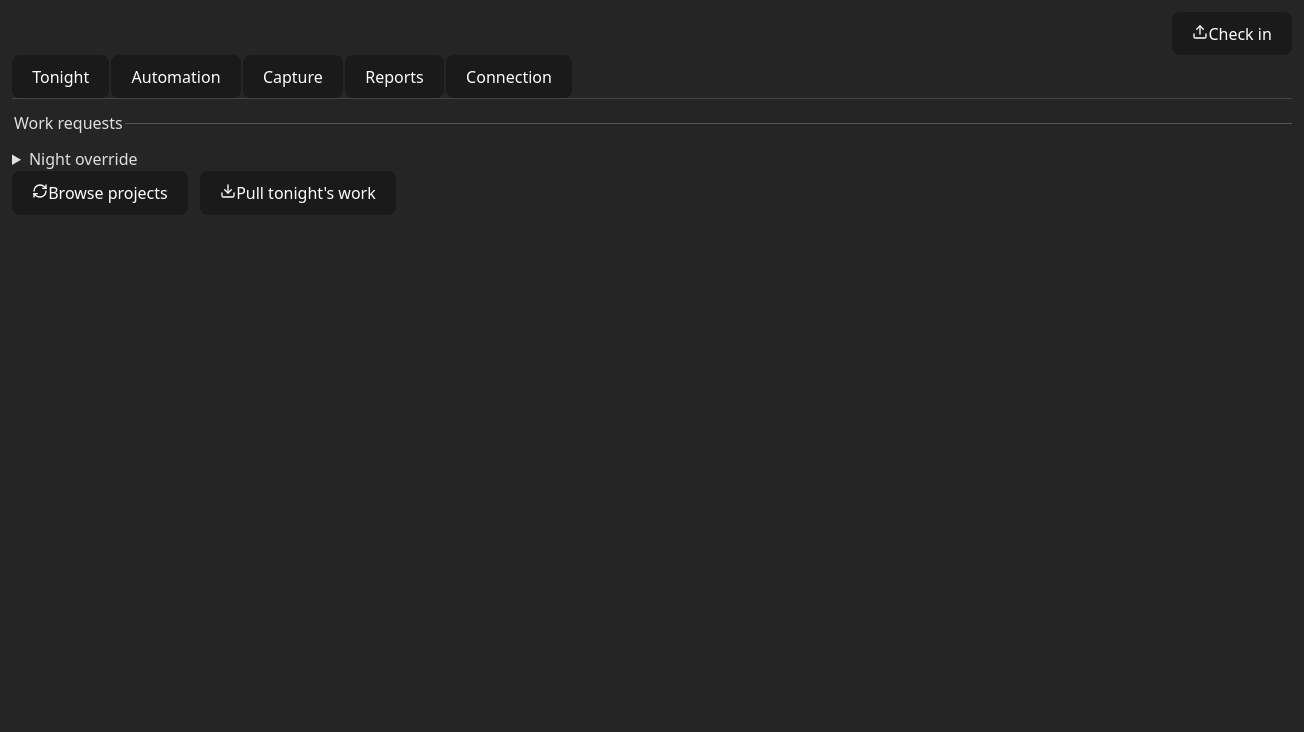
Collaboration work transfer › pulls tonight without manual context and freezes the resolved night through review and apply
Step 1. Click the button "Pull tonight's work" → (298,193), box [200,171,396,215]
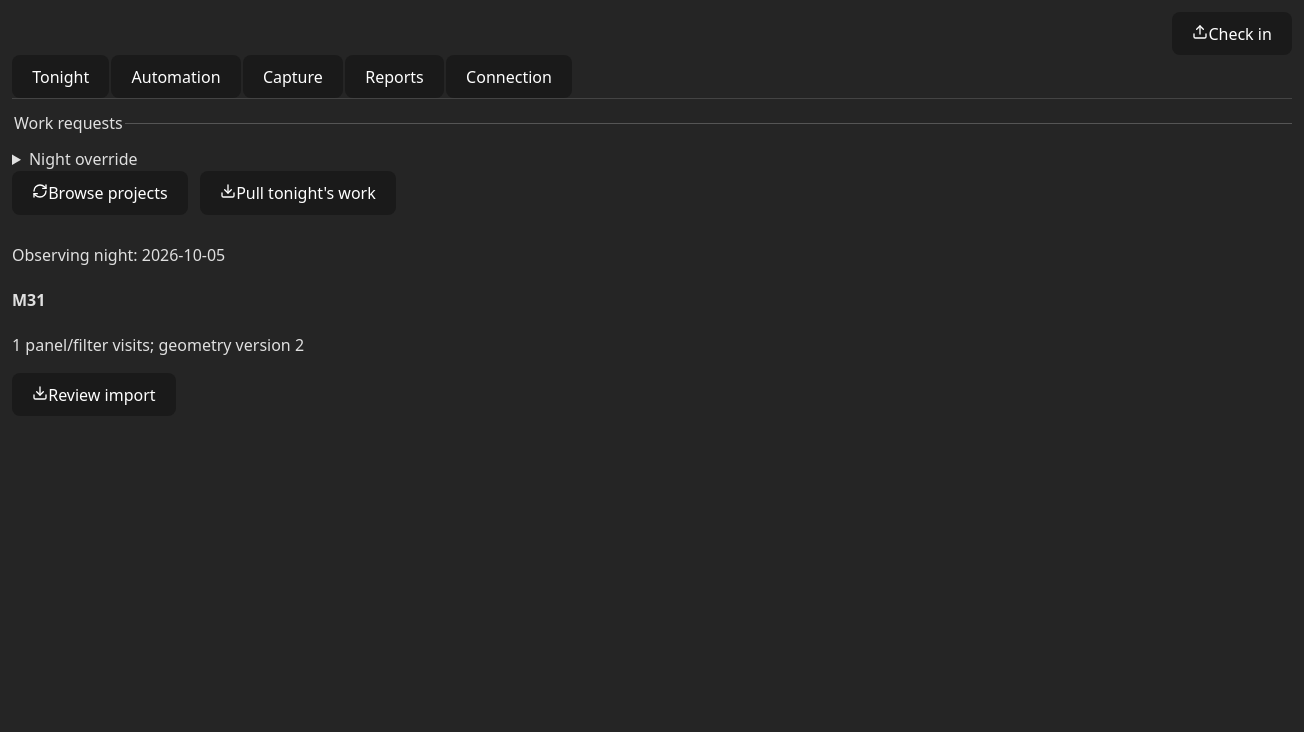
Check: the button "Import draft" is not shown
Step 2. Click the button "Review import" → (94,395), box [12,373,176,416]
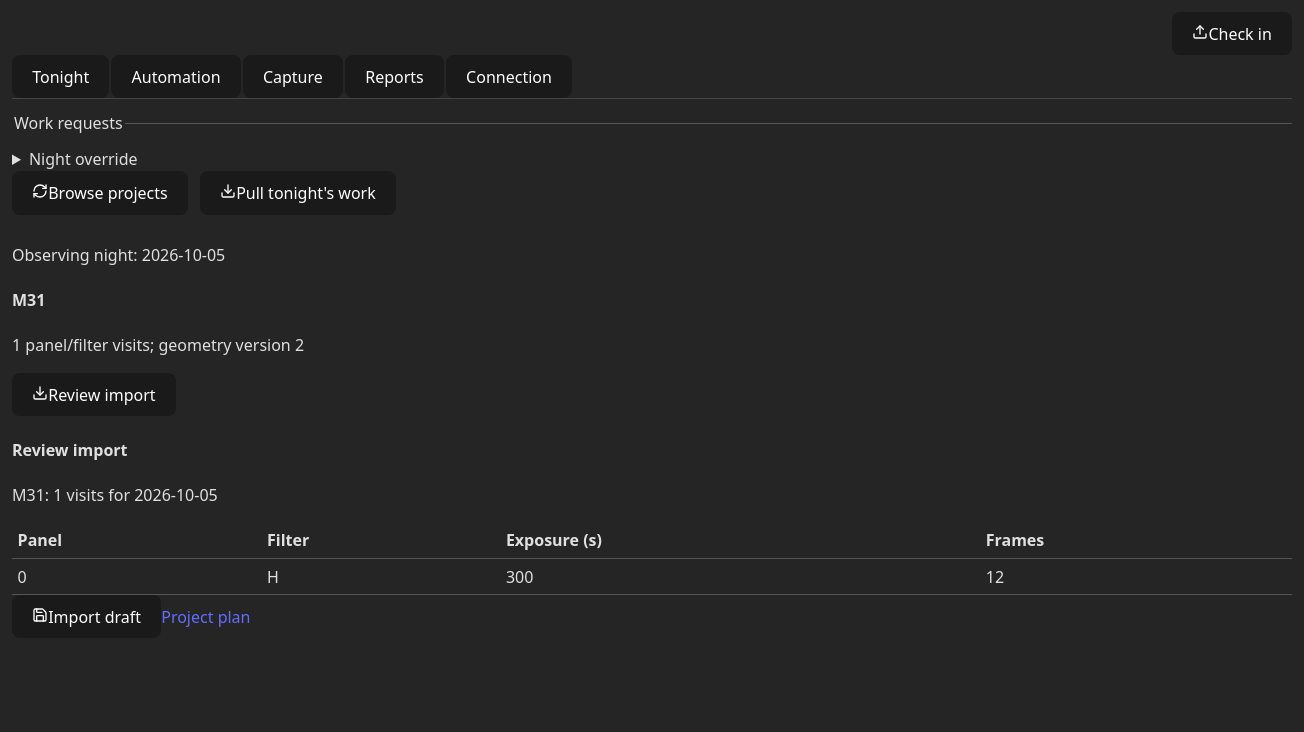
Step 3. Click the button "Import draft" → (87,617), box [12,595,161,638]
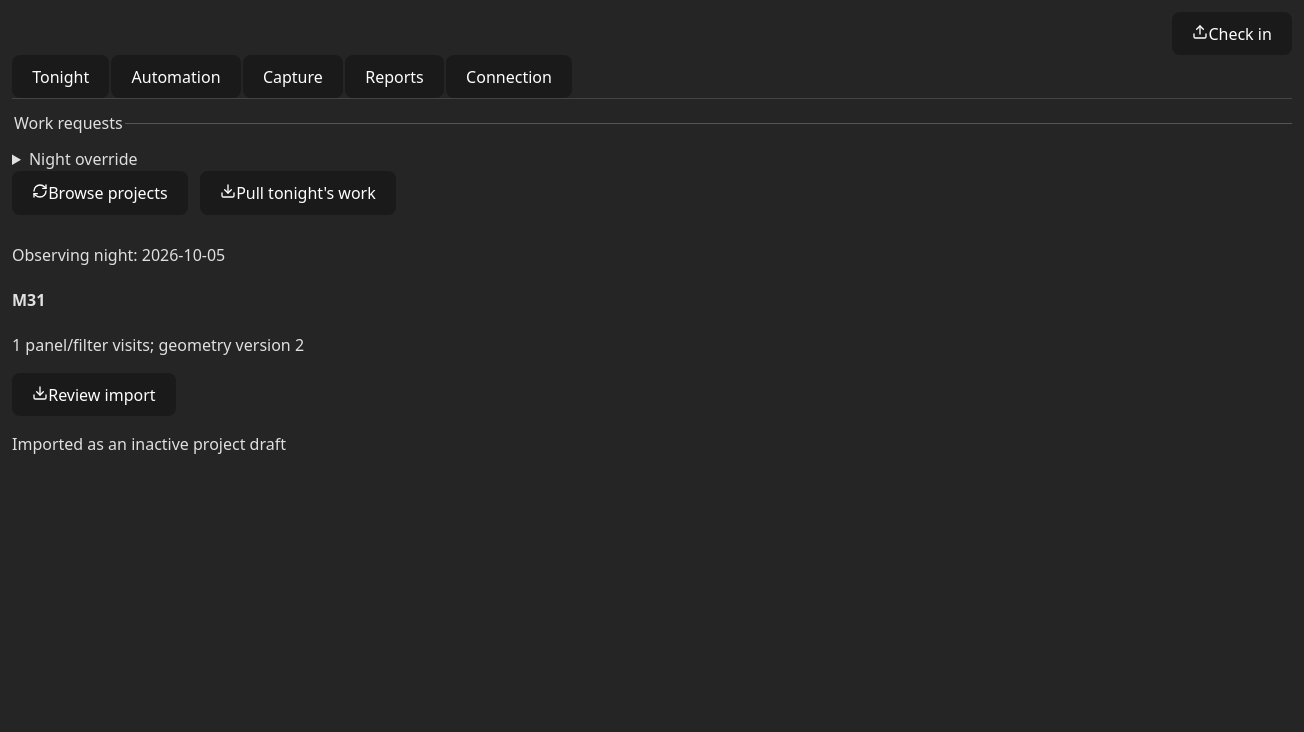
Check: the text "Imported as an inactive project draft" is shown, box [12,433,286,455]
